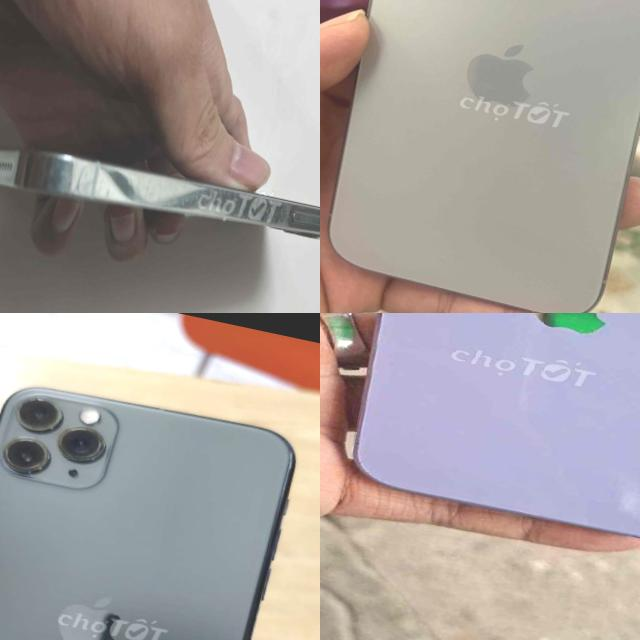gen_11: (0, 357, 307, 640)
gen_12_13: (320, 313, 640, 562), (0, 82, 320, 313)
gen_15: (320, 0, 640, 313)
scratch: (177, 164, 320, 257)
